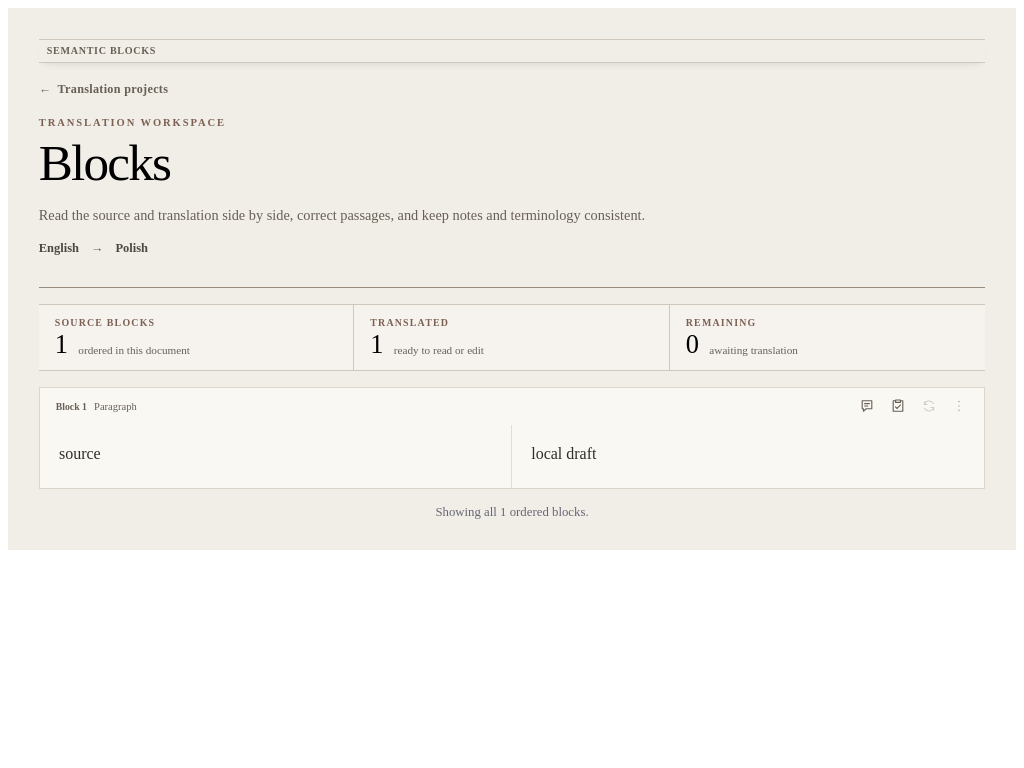
Test: BlockWorkspaceApp conflict handling › uses latest_block, preserves the local draft, and blocks saving until explicit reload
Clear the field labelled "local draft" at [564, 453], box 531,445 -> 596,462
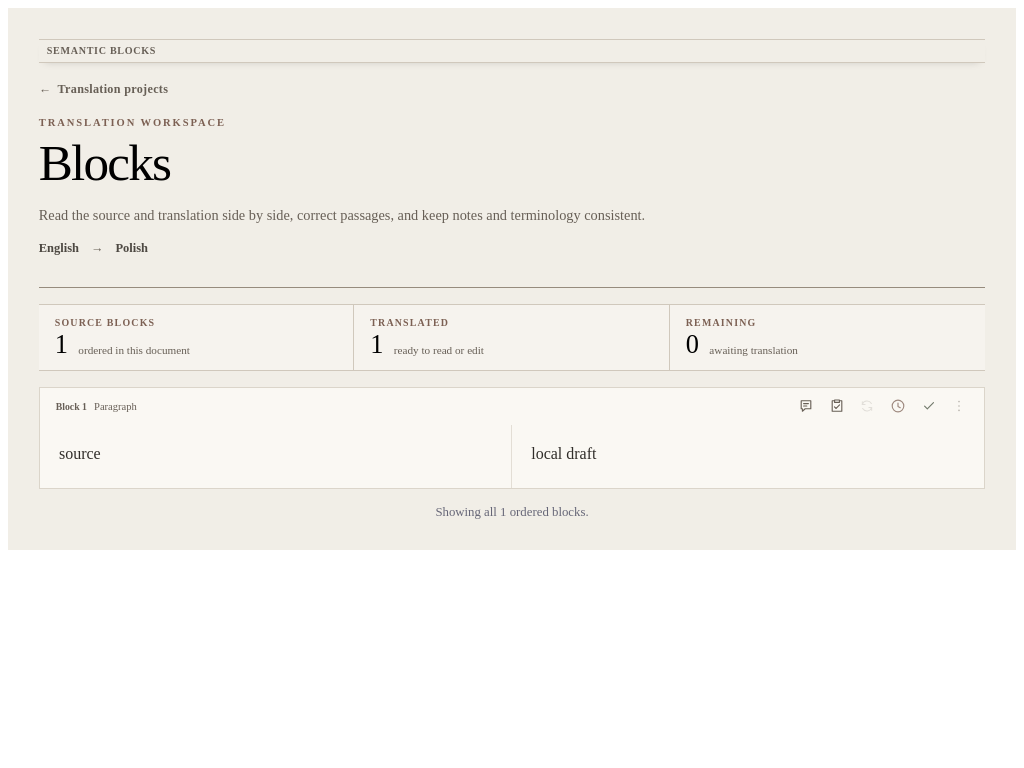
Click the button titled "Save translation" at [929, 406], box 914,392 -> 943,421
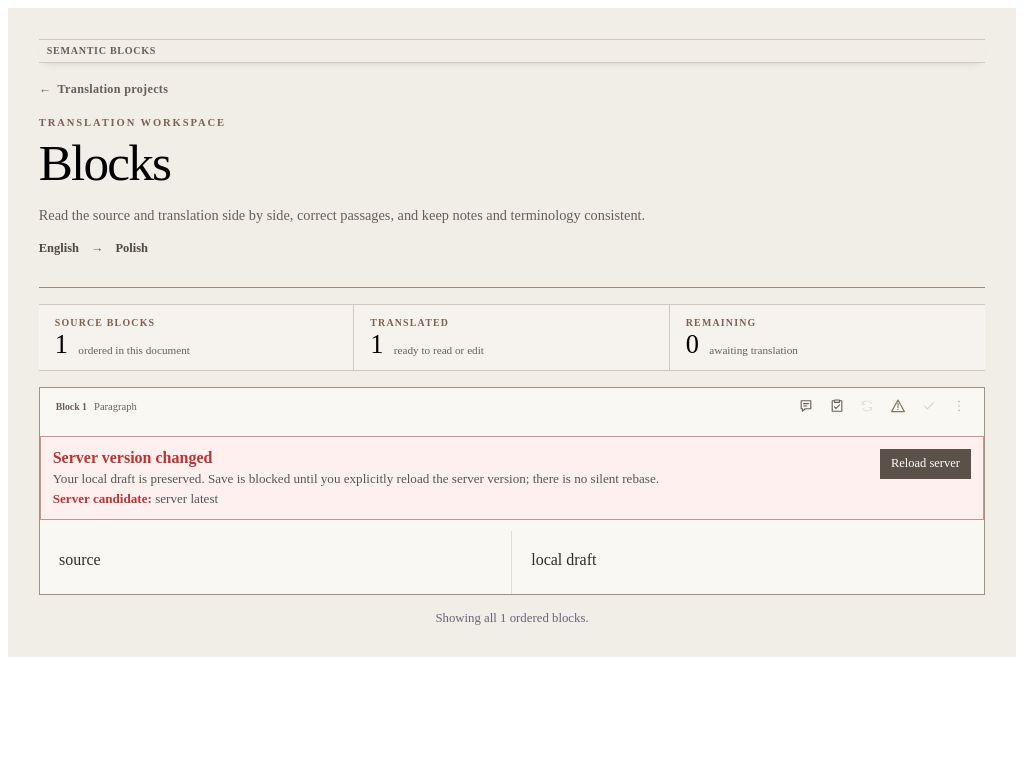
Expected: the message with test id "block-conflict" is shown, 40,436 -> 984,520
Expected: the message with test id "block-conflict" shows "server latest", 152,491 -> 218,506
Click the button "Reload server" at [925, 464], box 880,449 -> 971,479
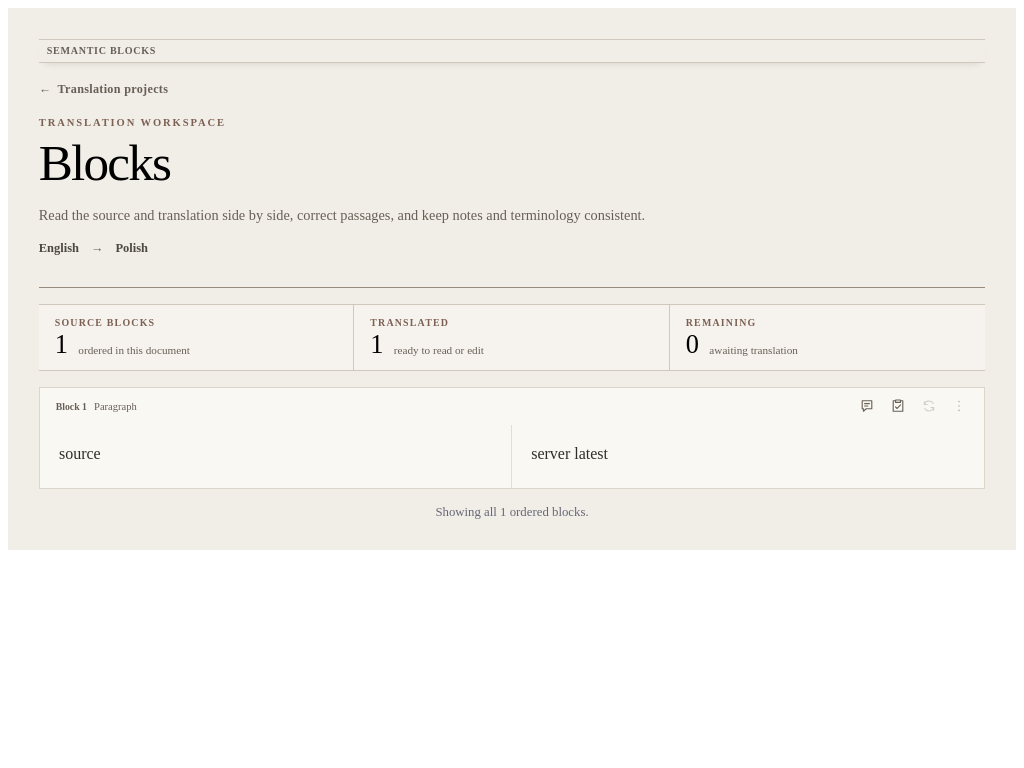
Expected: the message with test id "block-conflict" is gone
